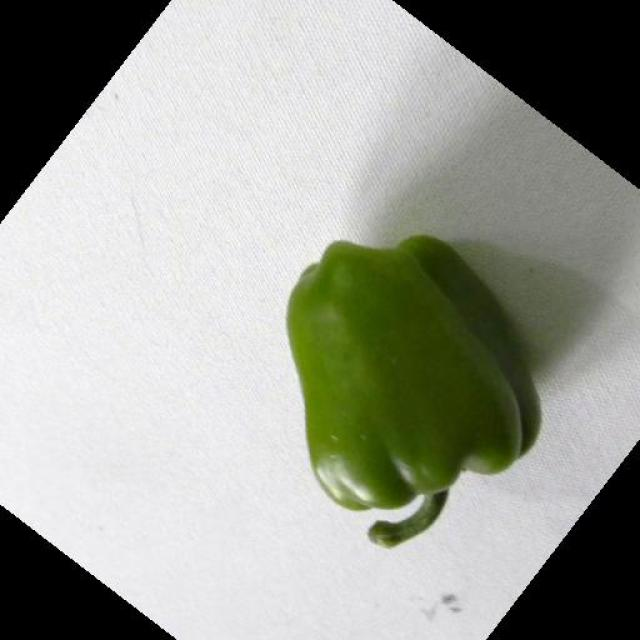Fresh_Capsicum: (277, 250, 551, 539)
